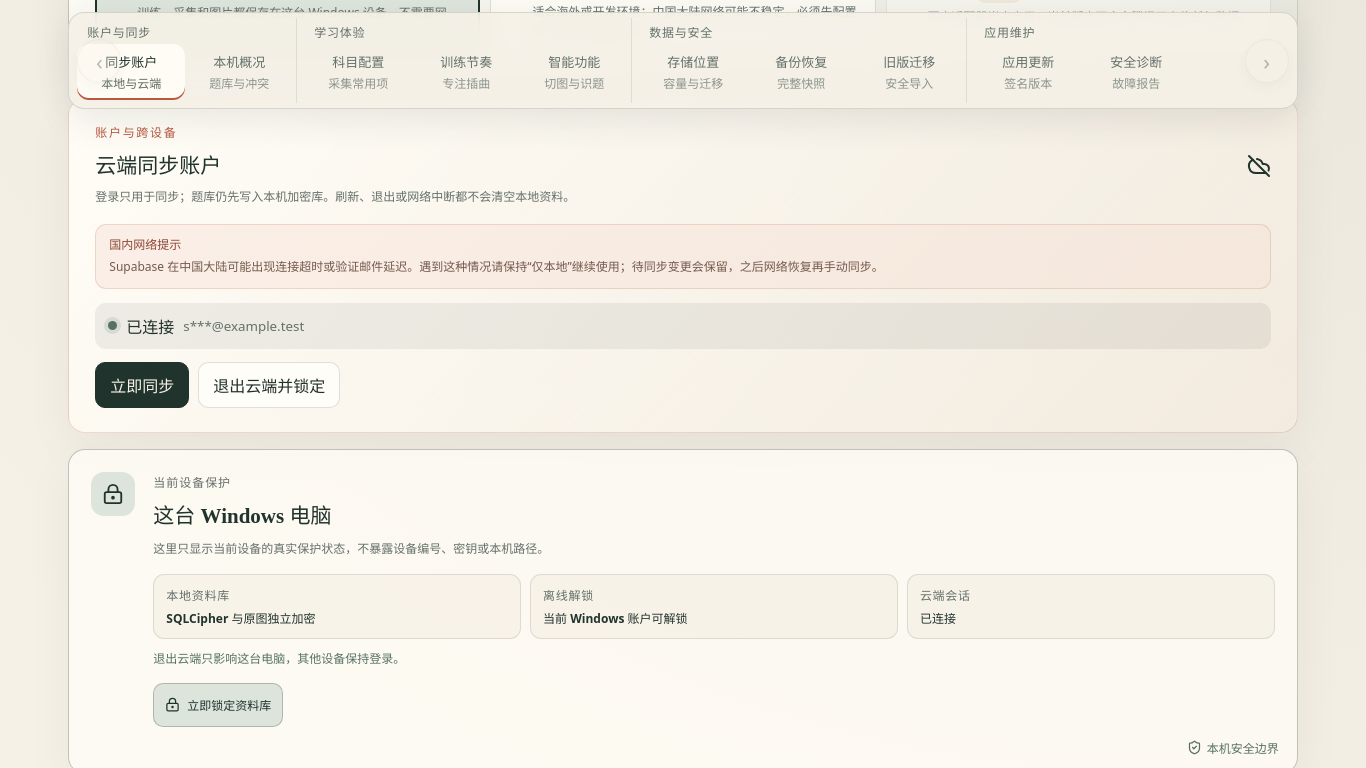
Scenario: SettingsView › keeps successful sync truthful when only the overview refresh fails
(page scrolled)
Click the button "立即同步" at {"x": 142, "y": 385}, box [95, 362, 189, 408]
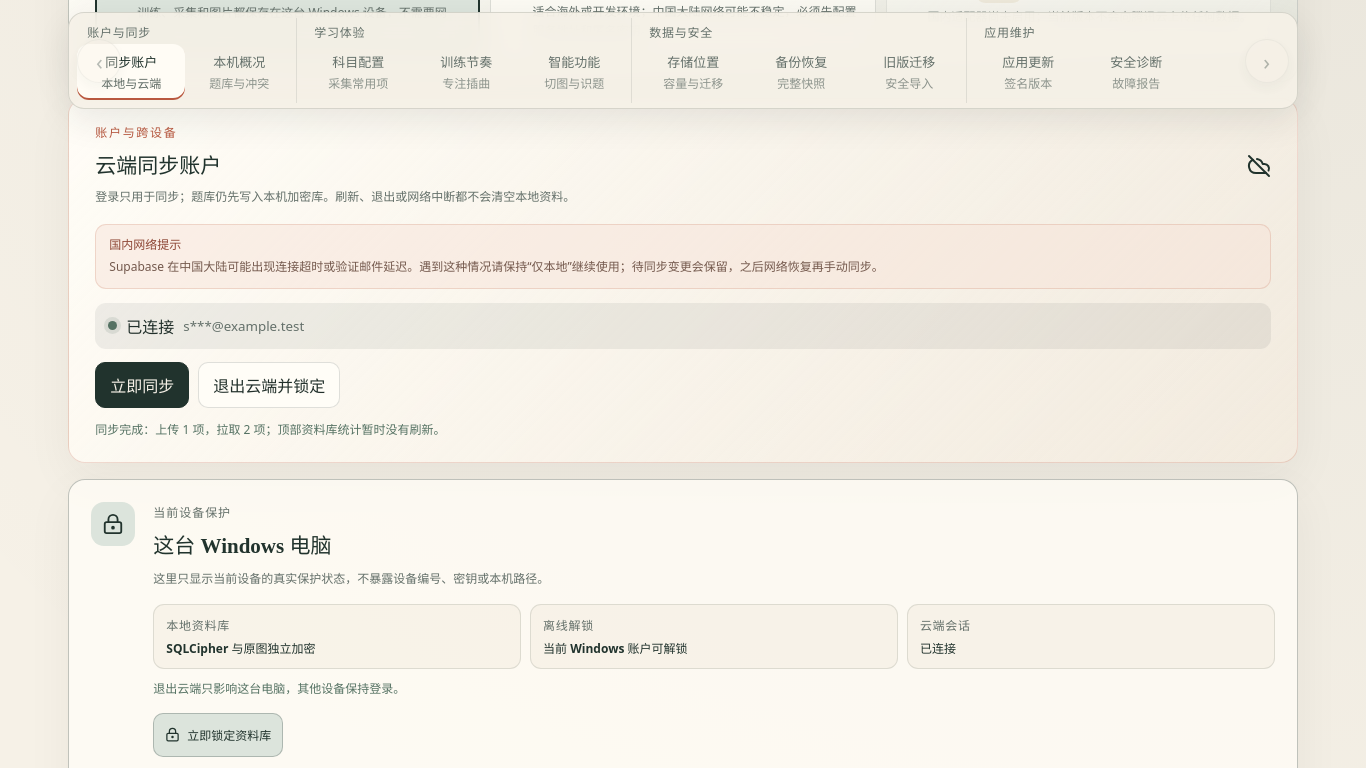
Result: the text "同步完成：上传 1 项，拉取 2 项；顶部资料库统计暂时没有刷新。" is shown at [95, 421, 446, 438]
